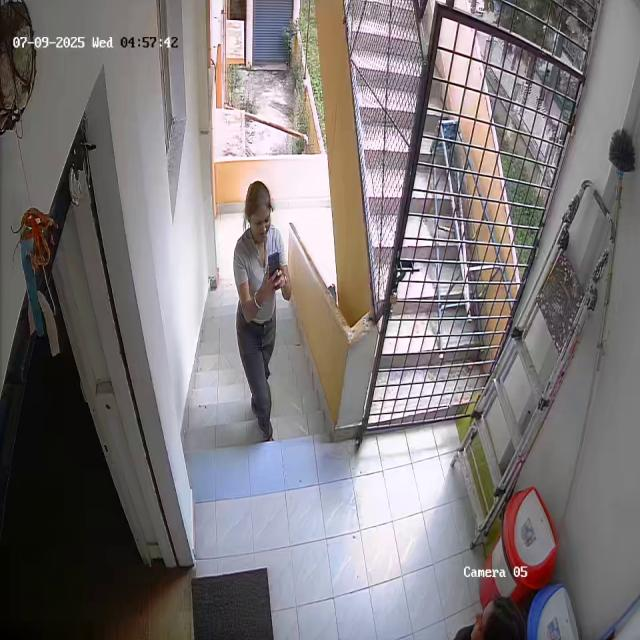person: (230, 179, 292, 439)
